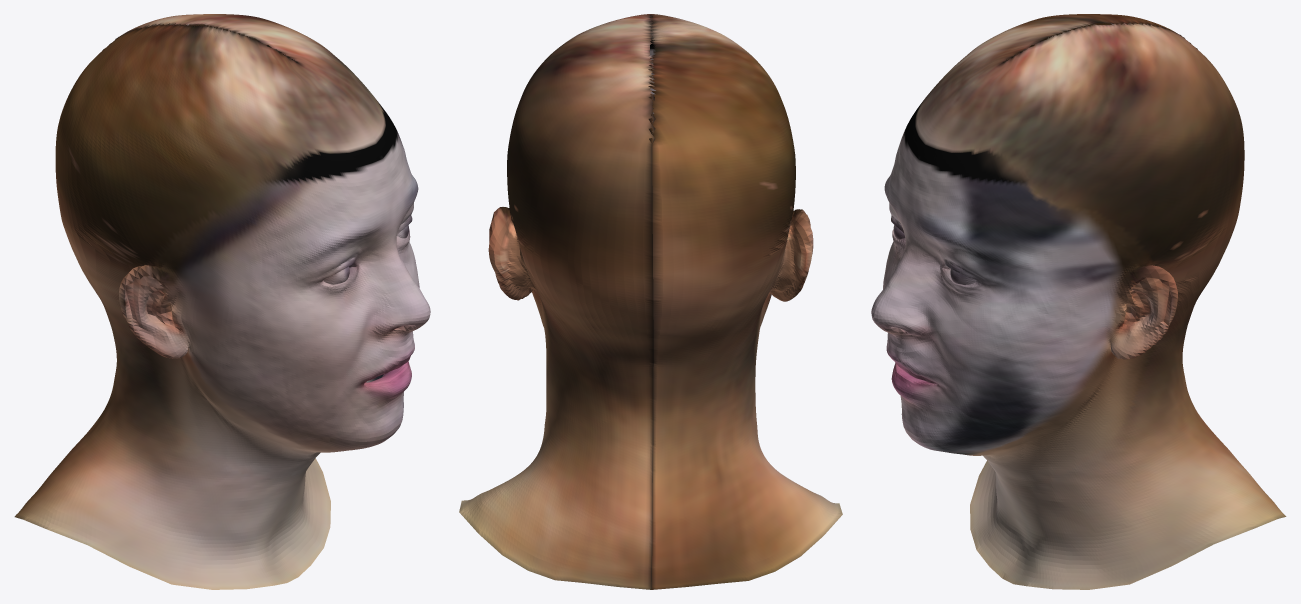
The model's file is cheo1_frame0001_detail.obj.
The picture shows the model from 3 angles, left to right: view 1: azimuth 30°, elevation 25°; view 2: azimuth 150°, elevation 25°; view 3: azimuth 270°, elevation 25°; orthographic projection.
Bounding box in the file's own units: 0.2119 × 0.321 × 0.2271.
